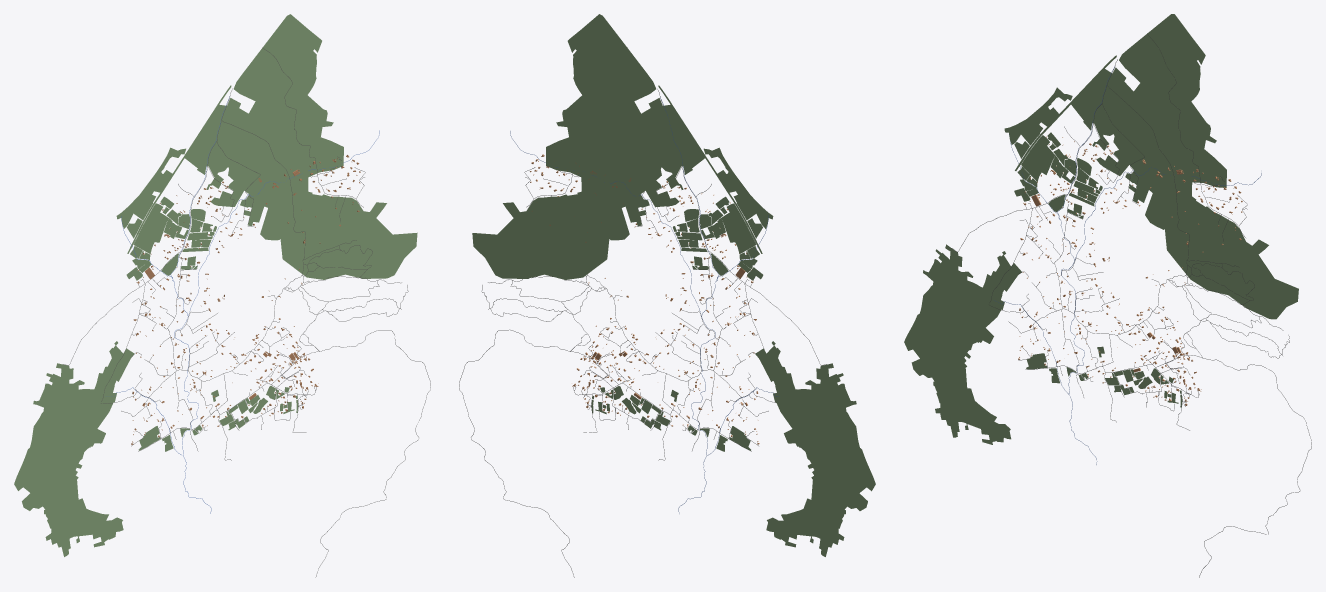
Rendered from map3d.glb.
3 renders of one model, left to right at view 1: azimuth 30°, elevation 25°; view 2: azimuth 150°, elevation 25°; view 3: azimuth 330°, elevation 25°, orthographic. The views are drawn at different scales.
Parts seen in each view (by area): view 1: landuse_893, landuse_979, landuse_6, landuse_1028; view 2: landuse_893, landuse_979, landuse_6, landuse_1028; view 3: landuse_893, landuse_979, landuse_6, landuse_1028.
Boxes of the visible parts, left/top/right/bottom form: landuse_893: left=185, top=14, right=386, bottom=252; landuse_979: left=14, top=341, right=134, bottom=556; landuse_6: left=280, top=218, right=417, bottom=279; landuse_1028: left=116, top=147, right=185, bottom=228; landuse_893: left=503, top=14, right=704, bottom=252; landuse_979: left=755, top=341, right=875, bottom=556; landuse_6: left=472, top=218, right=609, bottom=279; landuse_1028: left=703, top=147, right=773, bottom=228; landuse_893: left=1071, top=14, right=1268, bottom=263; landuse_979: left=904, top=244, right=1021, bottom=444; landuse_6: left=1165, top=229, right=1298, bottom=319; landuse_1028: left=1004, top=87, right=1072, bottom=145.
Size of the model in its own units: 4302 by 5623 by 12.
